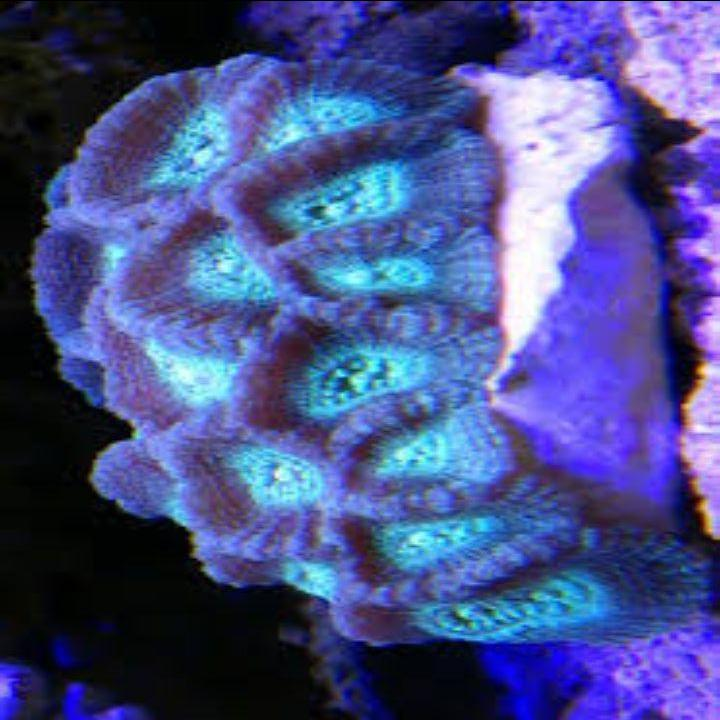Healthy Coral: (43, 66, 542, 645)
